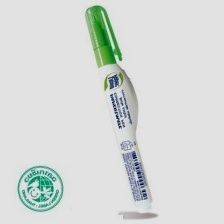correction_fluid: (82, 3, 155, 217)
